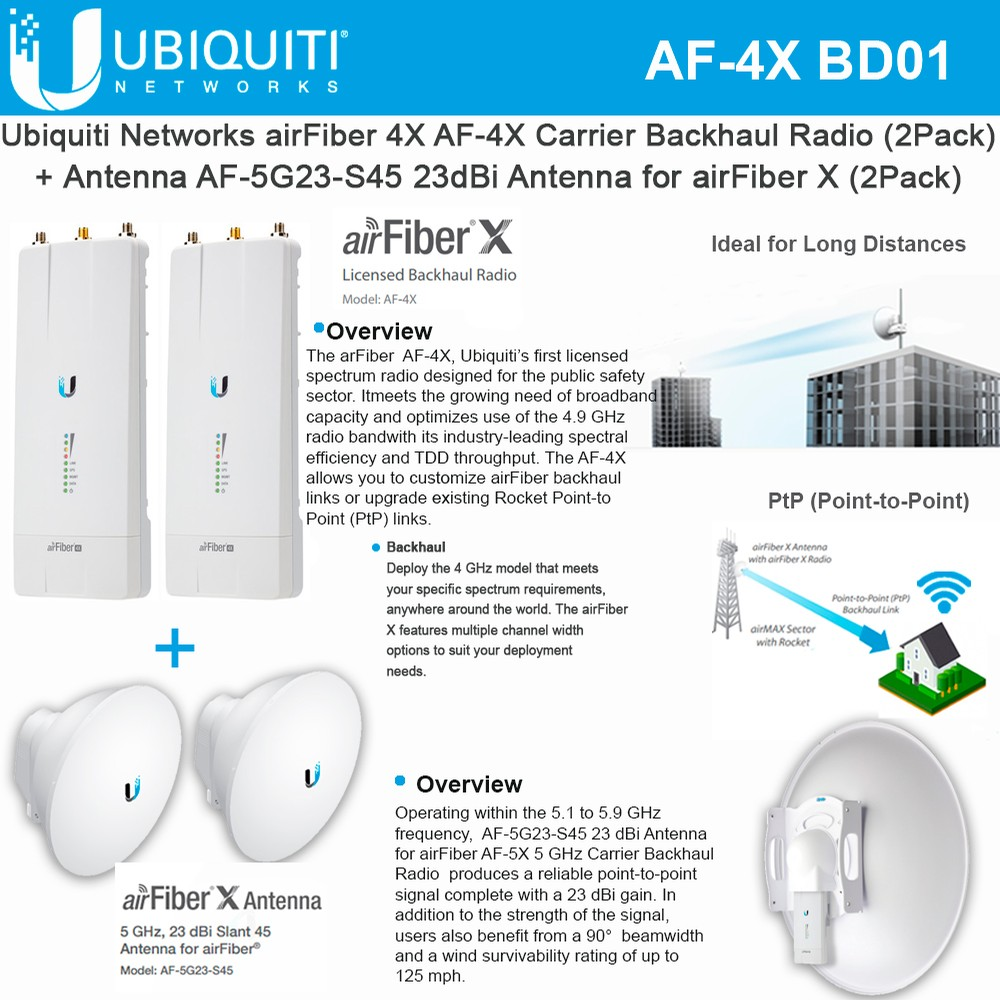ba: (774, 713, 964, 992), (19, 642, 193, 866), (181, 659, 367, 855)
